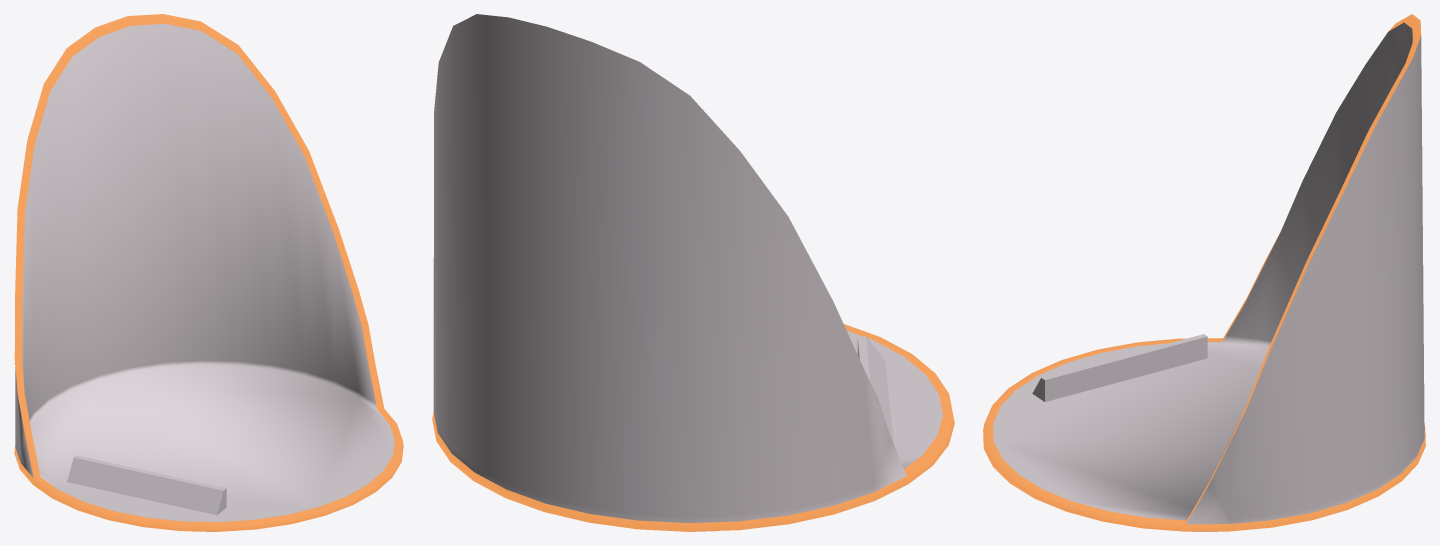
The model's file is Podest_high.glb.
3 renders of one model, left to right at view 1: azimuth 30°, elevation 25°; view 2: azimuth 150°, elevation 25°; view 3: azimuth 270°, elevation 25°, orthographic. The views are drawn at different scales.
Visible parts, largest first — view 1: Podest_high, Sign_Title.005; view 2: Podest_high, Sign_Title.005; view 3: Podest_high, Sign_Title.005.
Boxes of the visible parts, x1,y1,x2,y2 form: Podest_high: (14, 14, 403, 531); Sign_Title.005: (67, 455, 226, 515); Podest_high: (432, 14, 954, 531); Sign_Title.005: (857, 336, 893, 443); Podest_high: (983, 14, 1425, 531); Sign_Title.005: (1032, 334, 1207, 401).
Size of the model in its own units: 3.82 by 4.31 by 3.8.
